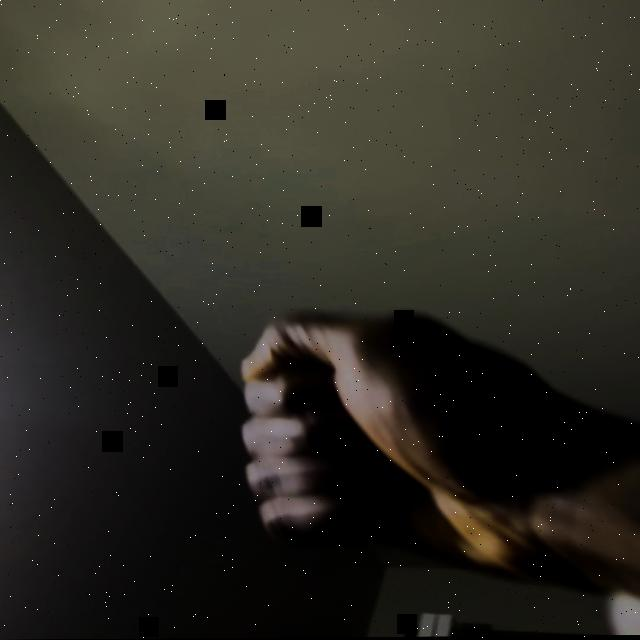Rock: (241, 306, 640, 597)
